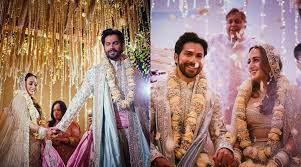Design Sherwani: (151, 72, 232, 166), (83, 63, 145, 166)
